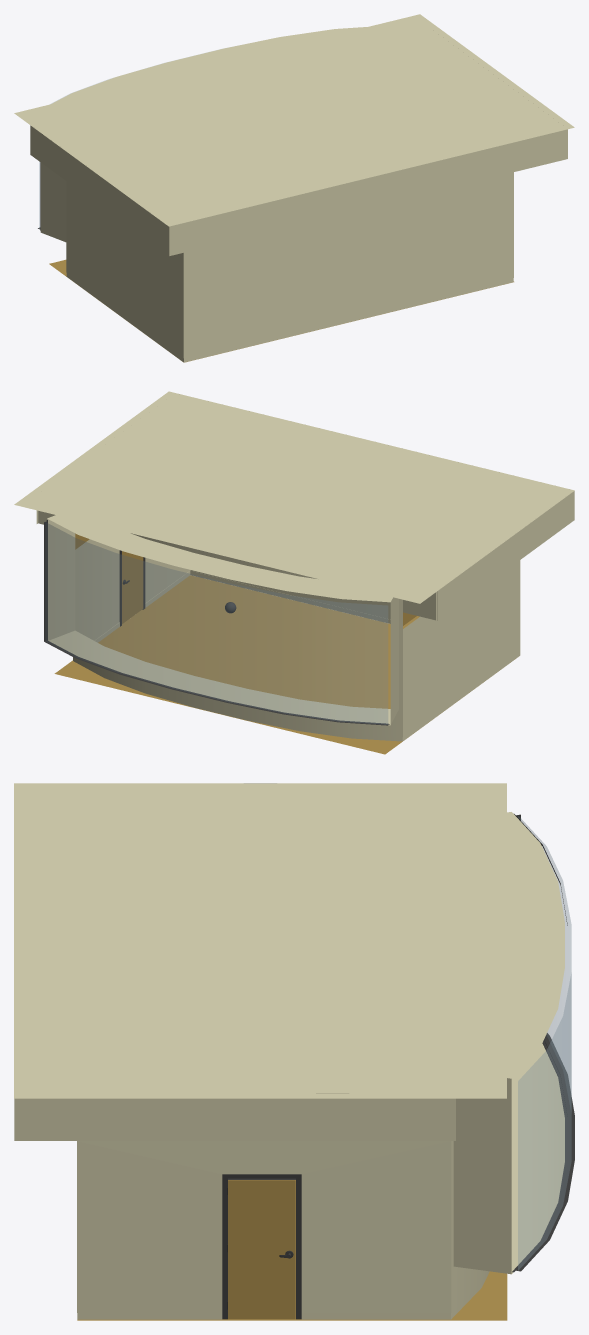
The model's file is Debreifing_Scene.fbx.
The picture shows the model from 3 angles, top to bottom: view 1: azimuth 30°, elevation 25°; view 2: azimuth 150°, elevation 25°; view 3: azimuth 270°, elevation 25°; orthographic projection. The views are drawn at different scales.
Parts seen in each view (by area): view 1: Base_Wall, Ceiling, Window_Wall; view 2: Ceiling, Window, Floor, Base_Wall, Window_Wall, Door; view 3: Ceiling, Base_Wall, Window_Wall, Window, Door, Floor.
Boxes of the visible parts, <box> form: Base_Wall: <box>30,125,567,362</box>; Ceiling: <box>14,14,574,226</box>; Window_Wall: <box>38,27,366,242</box>; Ceiling: <box>14,391,574,603</box>; Window: <box>45,522,387,724</box>; Floor: <box>54,575,510,754</box>; Base_Wall: <box>36,491,574,740</box>; Window_Wall: <box>38,511,437,741</box>; Door: <box>122,551,143,623</box>; Ceiling: <box>14,783,506,1098</box>; Base_Wall: <box>14,783,455,1319</box>; Window_Wall: <box>451,812,574,1319</box>; Window: <box>518,816,571,1270</box>; Door: <box>227,1180,295,1319</box>; Floor: <box>77,1180,507,1320</box>.
Bounding box in the file's own units: 33.41 × 12.51 × 25.11.
